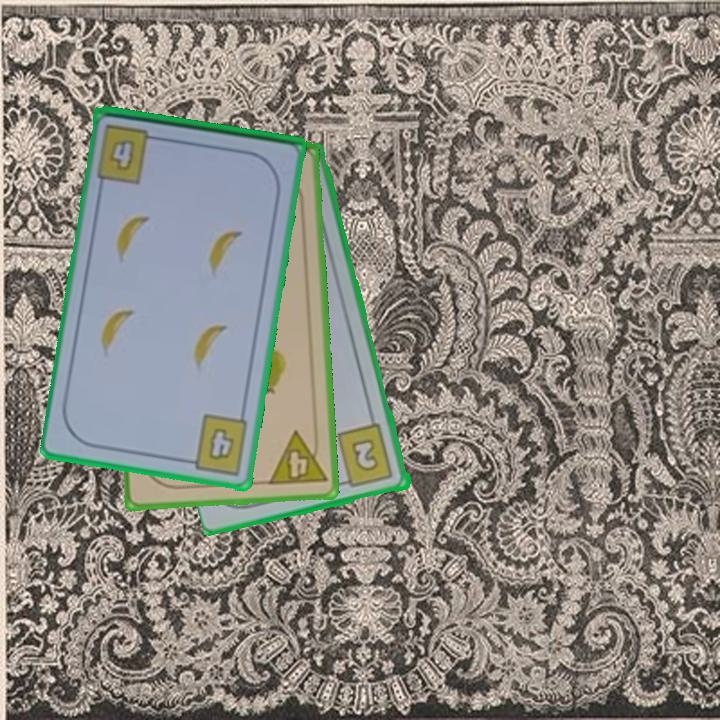2b: (334, 421, 397, 491)
4b: (93, 121, 165, 187), (181, 411, 251, 478)
4p: (264, 427, 330, 489)
